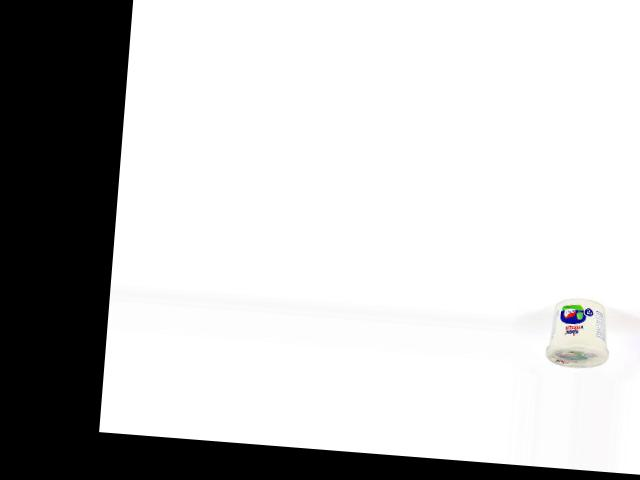cotage: (541, 293, 613, 370)
